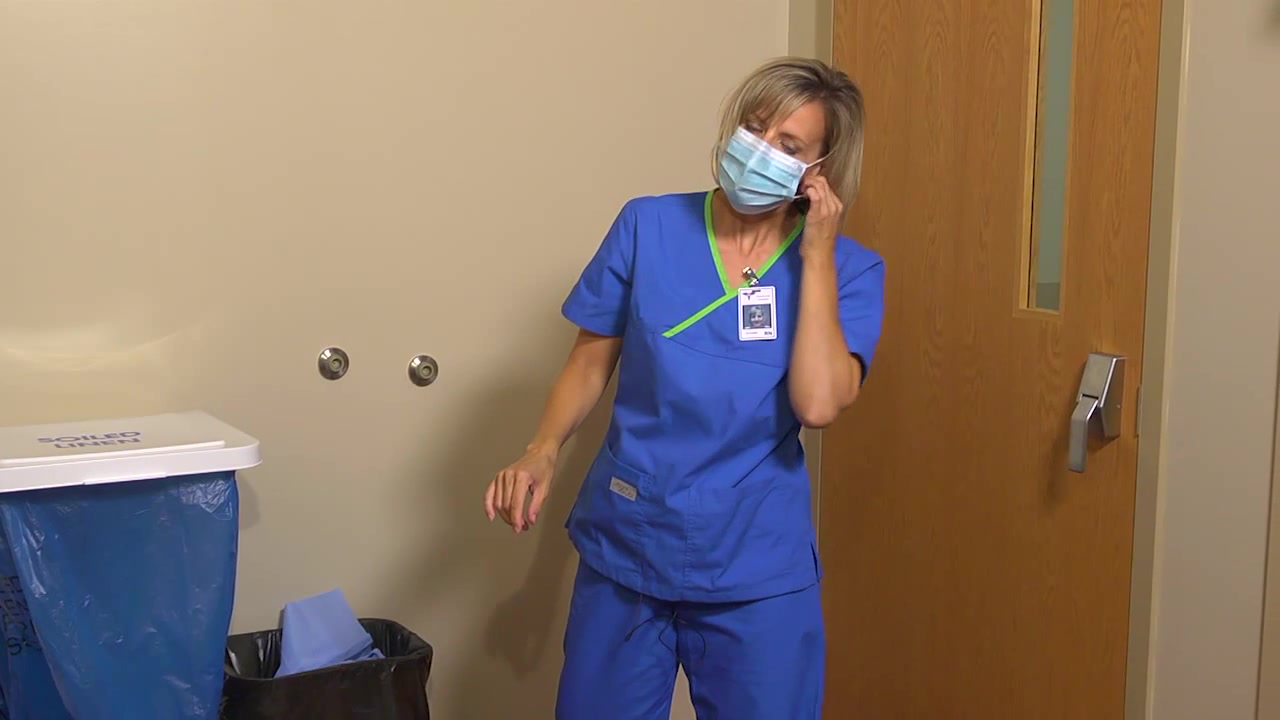with_mask: (711, 116, 820, 225)
